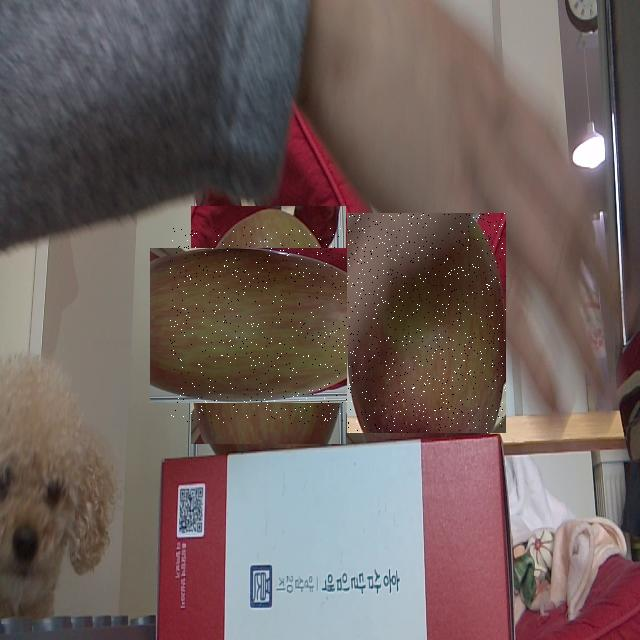apple: (170, 227, 367, 424), (347, 213, 506, 433)
